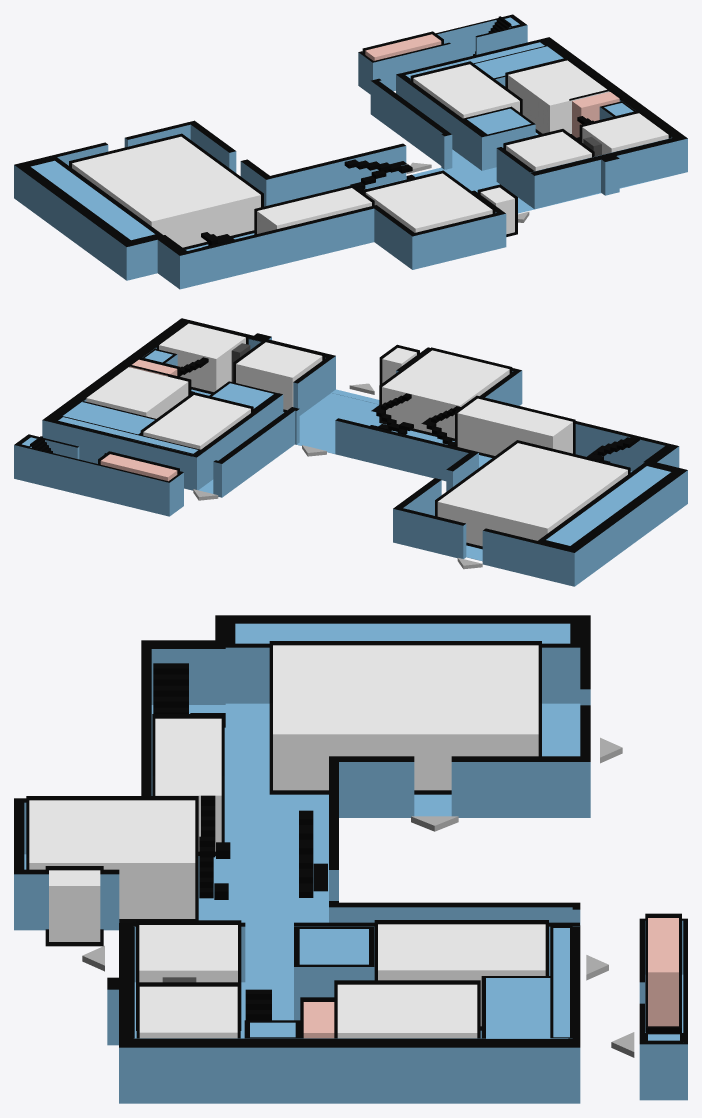
3 views of the same model, one above another, from view 1: azimuth 30°, elevation 25°; view 2: azimuth 150°, elevation 25°; view 3: azimuth 270°, elevation 25° (orthographic). The views are drawn at different scales.
Parts seen in each view (by area): view 1: object, room_4_1_5, room_4_1_8, room_4_1_2, room_4_1_4, room_4_1_6, room_4_1_1, room_4_1_7, トイレ_4_1_2, object_line.001, トイレ_4_1_1, 階段_4_1_3 (+5 smaller); view 2: object, room_4_1_5, room_4_1_8, room_4_1_6, room_4_1_1, room_4_1_4, room_4_1_2, room_4_1_7, トイレ_4_1_1, object_line.001, object_line.003, object_line (+8 smaller); view 3: object, room_4_1_5, room_4_1_8, room_4_1_4, room_4_1_2, room_4_1_6, room_4_1_7, room_4_1_1, room_4_1_3, トイレ_4_1_1, object_line.001, 階段_4_1_6 (+12 smaller).
Boxes of the visible parts, bbox=[...] form: object: bbox=[14, 14, 687, 289]; room_4_1_5: bbox=[72, 136, 260, 247]; room_4_1_8: bbox=[365, 173, 492, 232]; room_4_1_2: bbox=[508, 60, 609, 133]; room_4_1_4: bbox=[413, 64, 519, 118]; room_4_1_6: bbox=[257, 188, 371, 233]; room_4_1_1: bbox=[582, 113, 668, 154]; room_4_1_7: bbox=[506, 131, 591, 171]; トイレ_4_1_2: bbox=[572, 92, 619, 137]; object_line.001: bbox=[69, 133, 263, 249]; トイレ_4_1_1: bbox=[365, 34, 441, 60]; 階段_4_1_3: bbox=[344, 159, 412, 188]; object: bbox=[14, 318, 687, 586]; room_4_1_5: bbox=[437, 443, 627, 546]; room_4_1_8: bbox=[382, 350, 509, 438]; room_4_1_6: bbox=[457, 398, 572, 455]; room_4_1_1: bbox=[159, 323, 245, 391]; room_4_1_4: bbox=[143, 395, 250, 449]; room_4_1_2: bbox=[86, 367, 188, 418]; room_4_1_7: bbox=[236, 342, 322, 410]; トイレ_4_1_1: bbox=[100, 454, 177, 481]; object_line.001: bbox=[435, 440, 630, 549]; object_line.003: bbox=[379, 347, 512, 441]; object_line: bbox=[455, 395, 575, 457]; object: bbox=[14, 615, 687, 1103]; room_4_1_5: bbox=[273, 645, 538, 790]; room_4_1_8: bbox=[29, 800, 195, 918]; room_4_1_4: bbox=[378, 924, 545, 1026]; room_4_1_2: bbox=[337, 984, 477, 1038]; room_4_1_6: bbox=[155, 718, 221, 851]; room_4_1_7: bbox=[139, 925, 237, 982]; room_4_1_1: bbox=[139, 986, 237, 1038]; room_4_1_3: bbox=[49, 870, 100, 941]; トイレ_4_1_1: bbox=[648, 918, 678, 1026]; object_line.001: bbox=[269, 641, 541, 794]; 階段_4_1_6: bbox=[153, 663, 225, 727].
Bounding box in the file's own units: 2.72 × 0.186 × 1.79.
